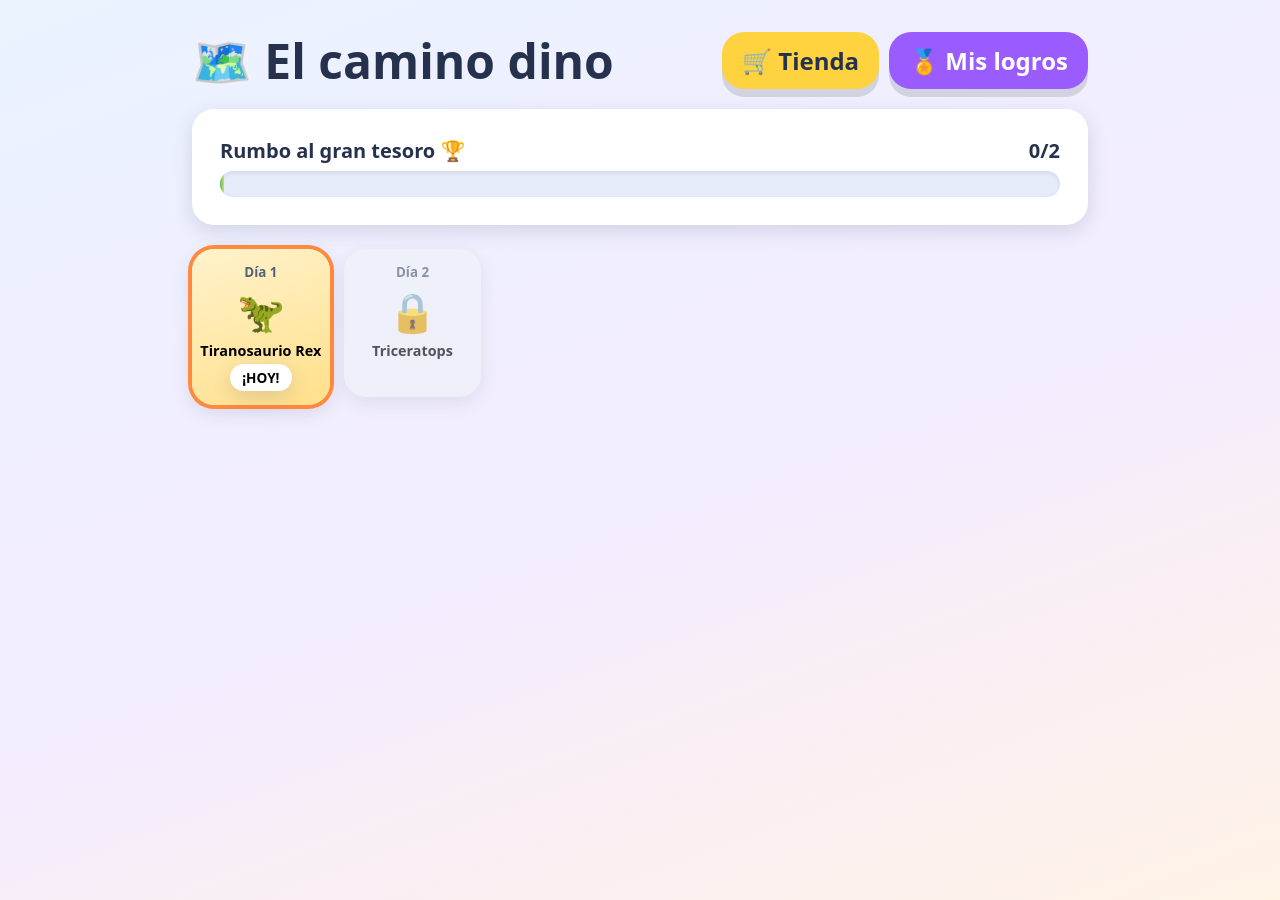
Test case: MapScreen › marca el día de hoy y, al tocar uno bloqueado, muestra un aviso
expect the text "¡HOY!" is shown: met, box x1=230 y1=364 x2=292 y2=391
// Al tocar el día bloqueado aparece el modal pidiendo completar los anteriores.
Click the button with aria-label "Día 2: Triceratops, bloqueado" at (413, 323), box x1=344 y1=249 x2=481 y2=397
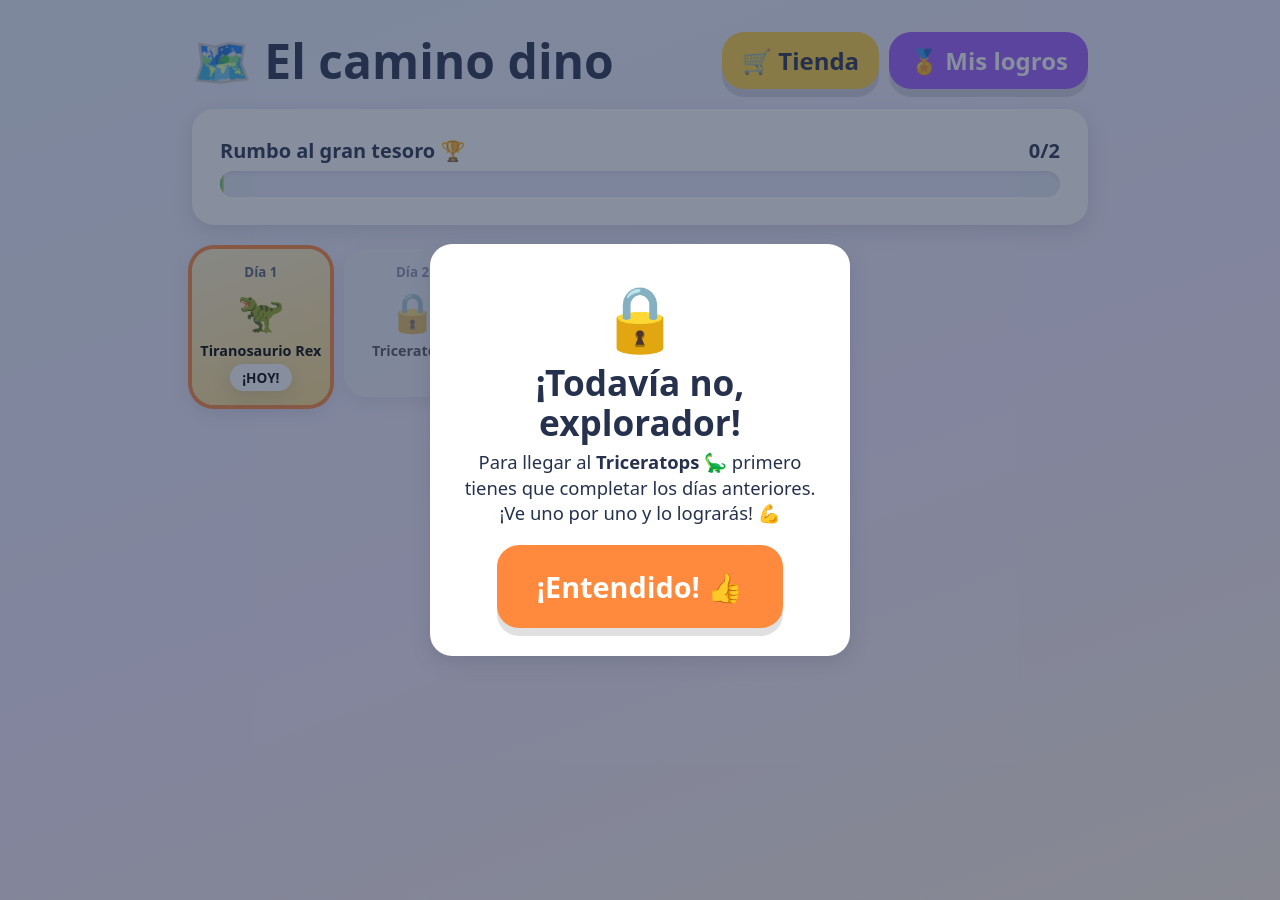
expect the dialog is shown: met, box x1=430 y1=244 x2=850 y2=656
expect the heading "¡Todavía no, explorador!" is shown: met, box x1=536 y1=358 x2=744 y2=446
